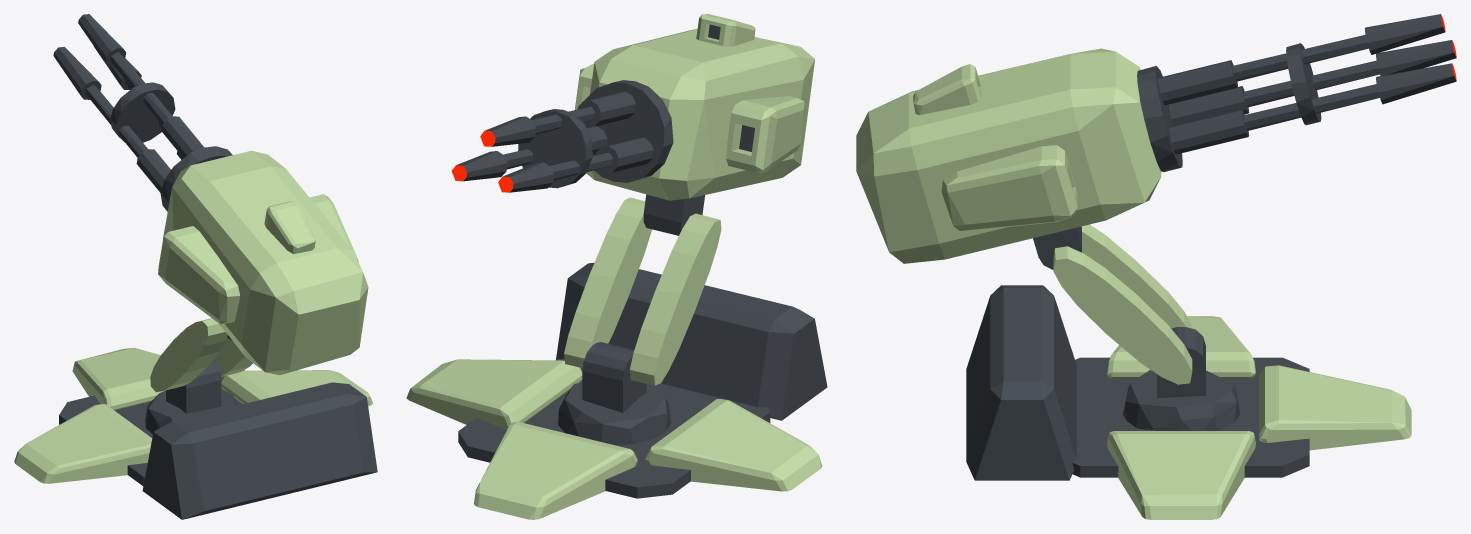
The model's file is gatling.glb.
3 views of the same model, side by side, from view 1: azimuth 30°, elevation 25°; view 2: azimuth 150°, elevation 25°; view 3: azimuth 270°, elevation 25° (orthographic). The views are drawn at different scales.
Parts seen in each view (by area): view 1: Cube.005, Cube, Plane.002, Cube.006, Plane.003, Cube.002, Cylinder.001, Plane.001, Cylinder.003, Circle.002, Cube.008, Cube.001 (+5 smaller); view 2: Cube.005, Cube, Plane.003, Plane.002, Plane.001, Cube.002, Cube.003, Plane, Cube.006, Circle, Circle.001, Cube.001 (+7 smaller); view 3: Cube.005, Cube, Plane.001, Plane.003, Plane, Cube.007, Cube.003, Cylinder.004, Cylinder.001, Cylinder.003, Circle, Plane.002 (+6 smaller).
Part boxes in pixels (x1,y1,x2,y2): Cube.005: (163,150,368,375); Cube: (142,382,377,519); Plane.002: (14,404,152,483); Cube.006: (158,226,240,324); Plane.003: (72,347,164,410); Cube.002: (150,318,227,392); Cylinder.001: (78,14,204,157); Plane.001: (221,370,372,406); Cylinder.003: (53,47,170,192); Circle.002: (110,82,175,142); Cube.008: (264,201,315,254); Cube.001: (166,359,221,413); Cube.005: (586,29,814,200); Cube: (556,262,827,420); Plane.003: (474,421,637,519); Plane.002: (645,399,822,491); Plane.001: (406,359,582,429); Cube.002: (629,213,721,385); Cube.003: (564,197,651,367); Plane: (458,358,770,498); Cube.006: (726,96,805,173); Circle: (558,382,671,445); Circle.001: (584,80,673,182); Cube.001: (582,342,646,412); Cube.005: (856,48,1161,263); Cube: (966,285,1076,480); Plane.001: (1107,431,1255,519); Plane.003: (1259,365,1411,450); Plane: (1072,357,1309,477); Cube.007: (941,145,1077,230); Cube.003: (1053,246,1192,384); Cylinder.004: (1169,63,1456,154); Cylinder.001: (1158,14,1445,105); Cylinder.003: (1169,40,1456,125); Circle: (1123,370,1239,430); Plane.002: (1107,316,1255,378).
Size of the model in its own units: 3.59 by 3.52 by 4.68.
